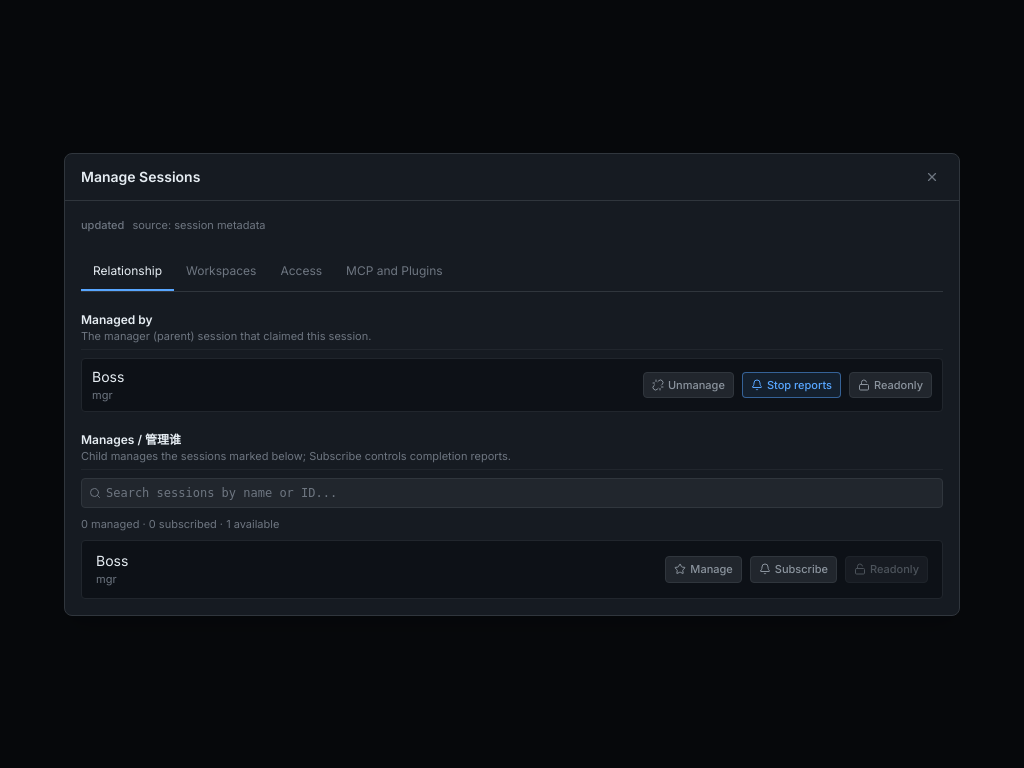
it: ManageModal › stops reports without breaking management (report-unsubscribe only)
Click the button "Stop reports" at coordinates (791, 385), box [742,372,841,398]
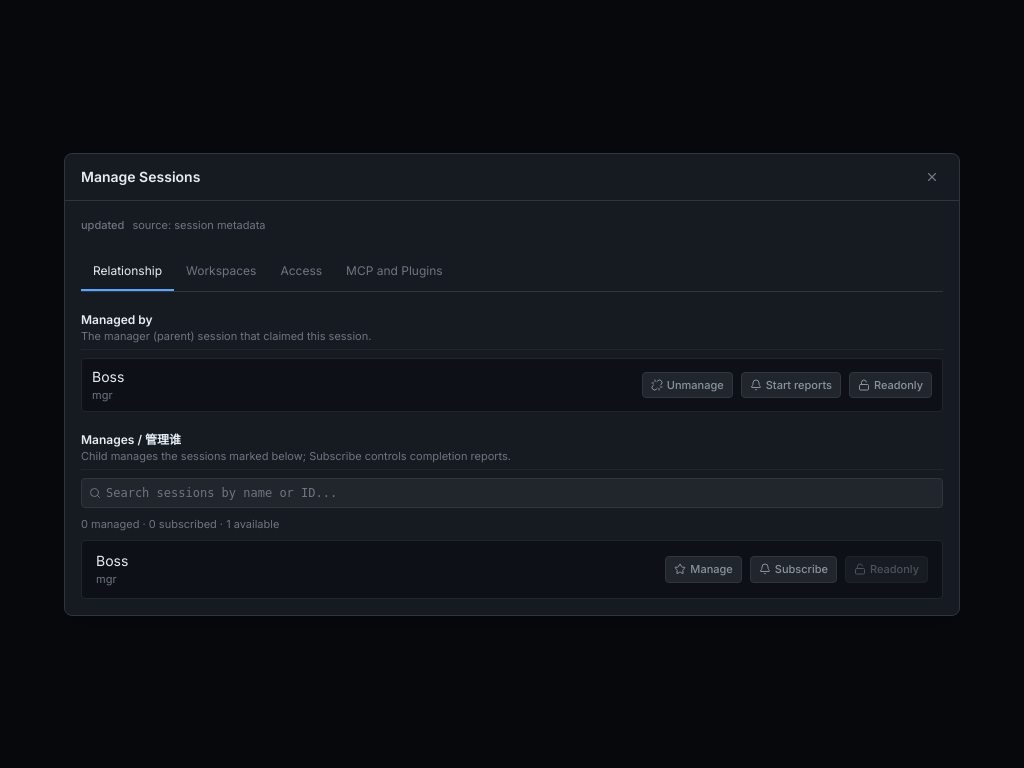
Expected: the text "Boss" below "Managed by" is shown, [92,368,124,384]
Expected: the button "Start reports" is shown
// Resuming reports re-subscribes (mirror of the manager's Subscribe action).
Click the button "Start reports" at coordinates (791, 385), box [741,372,841,398]
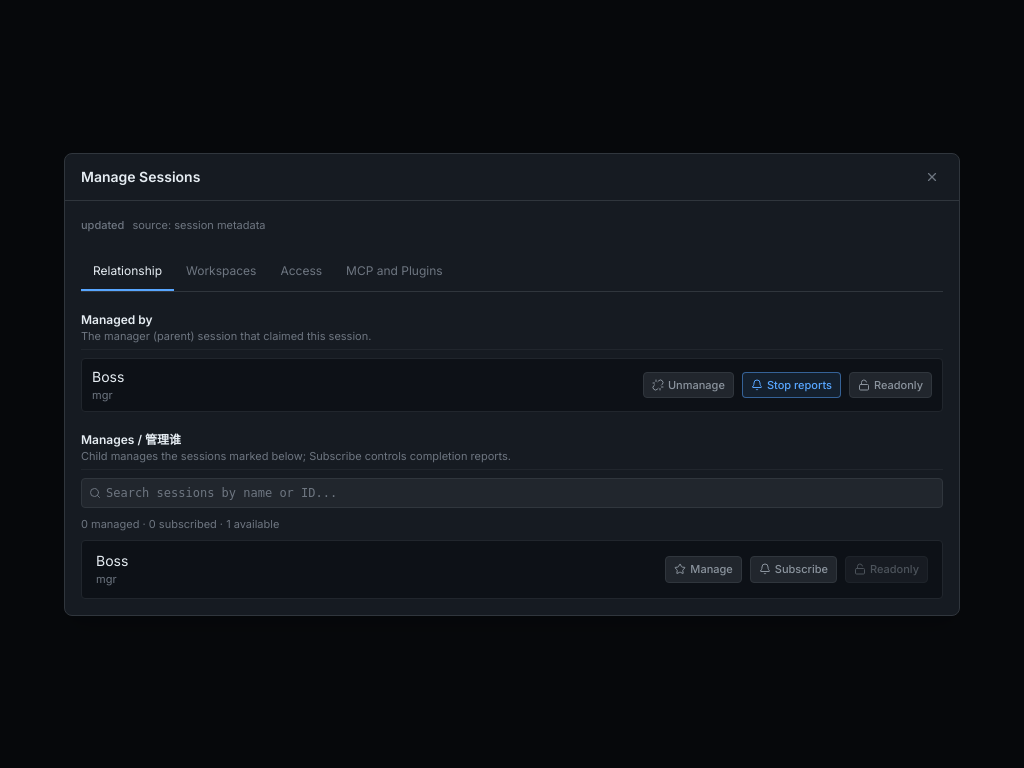
Expected: the text "Boss" below "Managed by" is shown, [92,368,124,384]
Expected: the button "Stop reports" is shown, [742,372,841,398]
